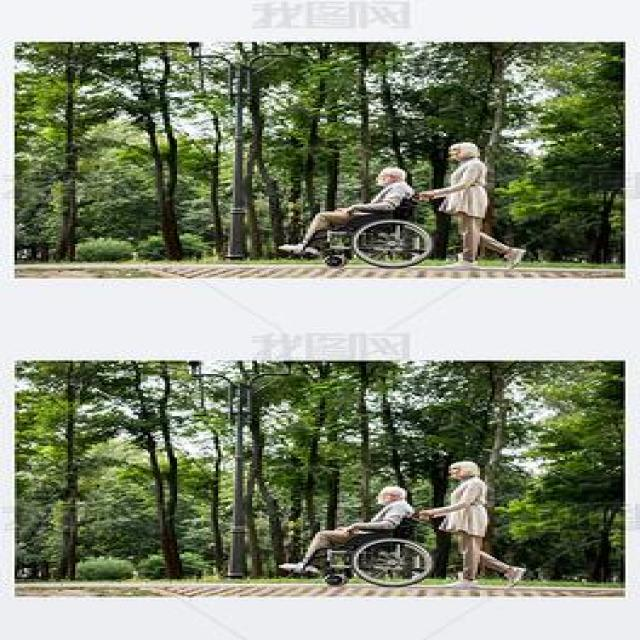wheelchairs: (307, 192, 442, 276), (309, 514, 446, 596)
